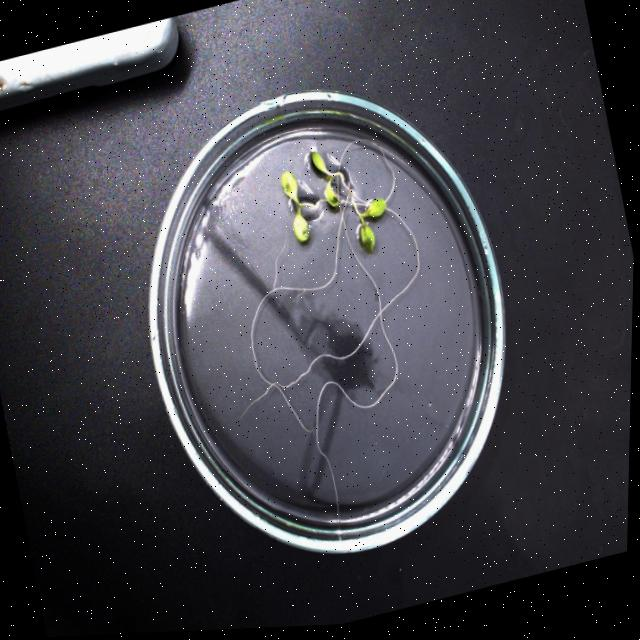leaf: (281, 170, 309, 242)
root: (238, 191, 423, 534)
steb: (330, 170, 363, 221)
